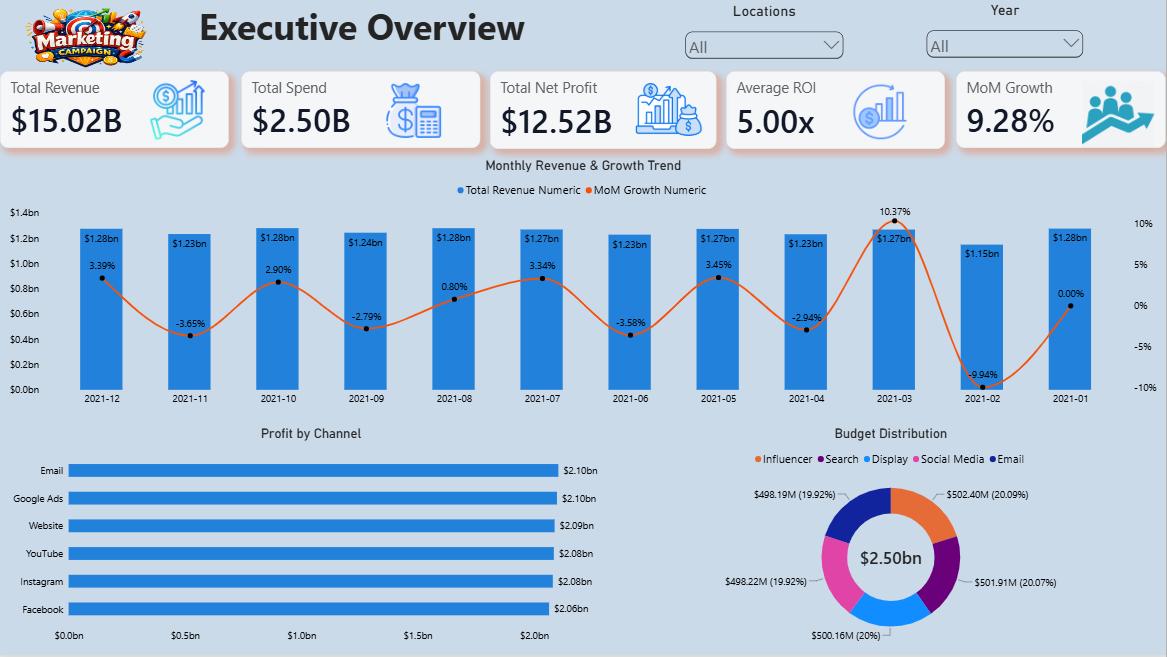

The page's visual inventory and layout, read from the dashboard file:
{"tool":"powerbi","page":{"name":"Executive Overview","canvas":[1920,1080],"ordinal":0},"visuals":[{"type":"textbox","box":[327.3,2.1,615.4,98.8],"z":0},{"type":"cardVisual","fields":{"Data":["_All_Measures.KPI Total Spend"]},"box":[397.5,117.8,393.3,126.2],"z":1000},{"type":"cardVisual","fields":{"Data":["_All_Measures.KPI Average ROI"]},"box":[1195.9,117.3,360.2,127.6],"z":2000},{"type":"cardVisual","fields":{"Data":["_All_Measures.KPI MoM Growth"]},"box":[1575.5,117.8,345,126.2],"z":3000},{"type":"cardVisual","fields":{"Data":["_All_Measures.KPI Total Revenue"]},"box":[0,117.8,376.5,126.2],"z":4000},{"type":"cardVisual","fields":{"Data":["_All_Measures.KPI Total Net Profit"]},"box":[806.9,117.3,372.6,127.6],"z":5000},{"type":"lineClusteredColumnComboChart","title":"Monthly Revenue & Growth Trend","fields":{"Category":["Dim_Date.Month Year"],"Y":["_All_Measures.Total Revenue Numeric"],"Y2":["_All_Measures.MoM Growth Numeric"]},"box":[0,244,1920.4,443.8],"z":6000},{"type":"clusteredBarChart","title":"Profit by Channel","fields":{"Category":["public marketing_campaigns.channel_used"],"Y":["_All_Measures.Total Net Profit Numeric"]},"box":[0,687.8,1024.4,391.2],"z":7000},{"type":"donutChart","title":"Budget Distribution","fields":{"Category":["public marketing_campaigns.campaign_type"],"Y":["_All_Measures.Total Spend Numeric"]},"box":[1018.1,687.8,896.1,391.2],"z":8000},{"type":"slicer","title":"Year","fields":{"Values":["Dim_Date.Year"]},"box":[1521.1,2.1,267.1,101],"z":9000},{"type":"slicer","title":"Locations","fields":{"Values":["public marketing_campaigns.location"]},"box":[1123.8,4.1,269.6,100.9],"z":11000},{"type":"image","box":[16.5,0,253.2,137.9],"z":12000},{"type":"image","box":[232.6,131.7,119.4,98.8],"z":12001},{"type":"image","box":[636,125.6,90.6,113.2],"z":12002},{"type":"image","box":[1045.6,107,111.1,146.1],"z":12003},{"type":"image","box":[1377,137.9,144.1,92.6],"z":12004},{"type":"image","box":[1768.1,131.7,146.1,119.4],"z":12005}]}

Visuals, with their boxes in screenshot pixels (x1, y1, x2, y2), scaled from the page's 1920x1080 canvas onto the 1167x657 screenshot:
textbox: box(199, 1, 573, 61)
cardVisual - _All_Measures.KPI Total Spend: box(242, 72, 481, 148)
cardVisual - _All_Measures.KPI Average ROI: box(727, 71, 946, 149)
cardVisual - _All_Measures.KPI MoM Growth: box(958, 72, 1166, 148)
cardVisual - _All_Measures.KPI Total Revenue: box(0, 72, 229, 148)
cardVisual - _All_Measures.KPI Total Net Profit: box(490, 71, 717, 149)
"Monthly Revenue & Growth Trend" lineClusteredColumnComboChart: box(0, 148, 1166, 418)
"Profit by Channel" clusteredBarChart: box(0, 418, 623, 656)
"Budget Distribution" donutChart: box(619, 418, 1163, 656)
"Year" slicer: box(925, 1, 1087, 63)
"Locations" slicer: box(683, 2, 847, 64)
image: box(10, 0, 164, 84)
image: box(141, 80, 214, 140)
image: box(387, 76, 442, 145)
image: box(636, 65, 703, 154)
image: box(837, 84, 925, 140)
image: box(1075, 80, 1163, 153)
